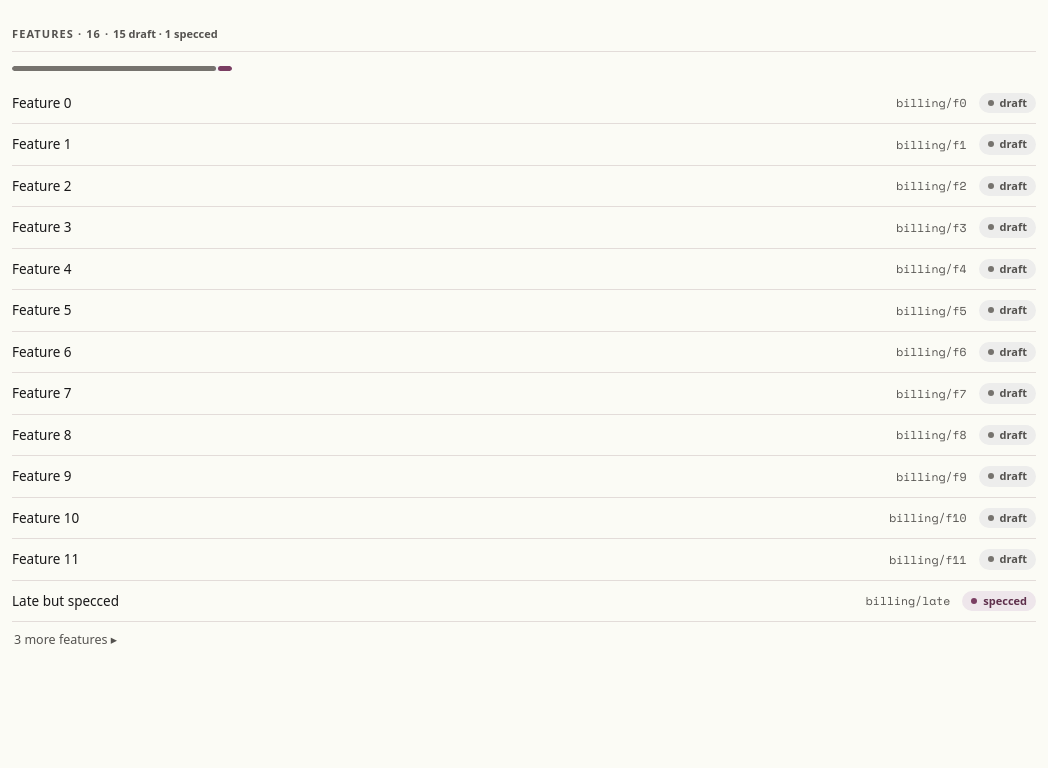
Test case: EpicBody decomposition cap › expands the hidden rows in place, with no refetch
Click the button "3 more features ▸" at (40, 640), box [12,621,1036,657]
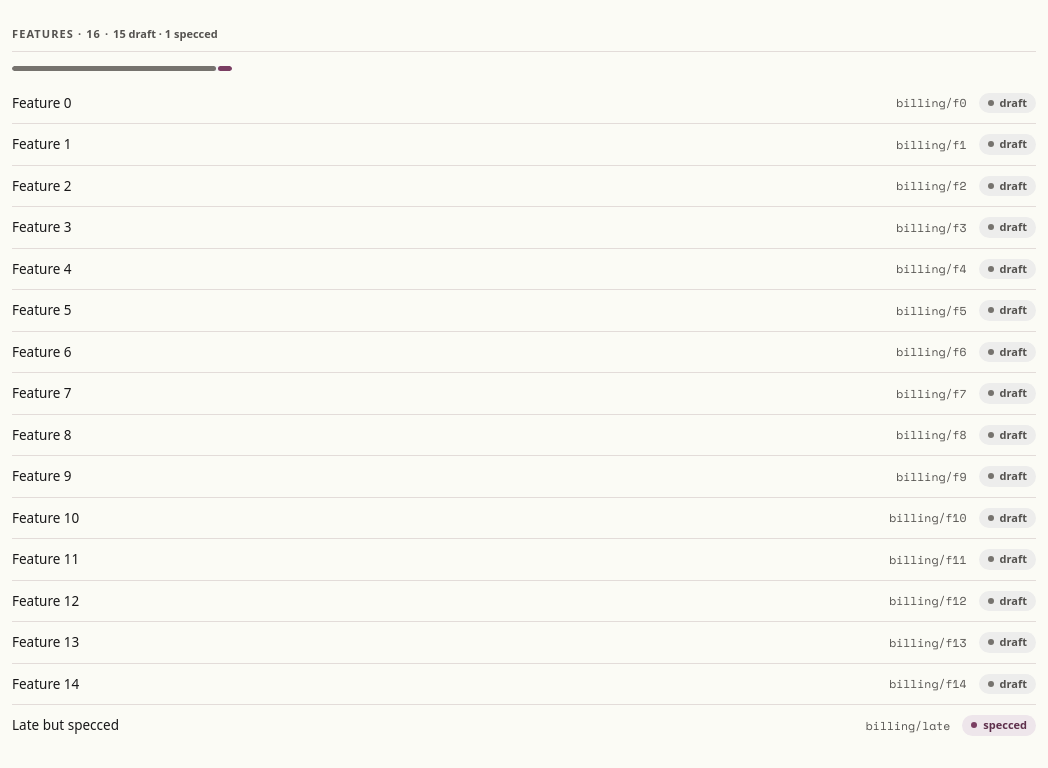
Now the link "Feature 12" is shown, box [12,592,79,610]
Now the link "Feature 14" is shown, box [12,675,79,693]
Now the button "more features" is gone
